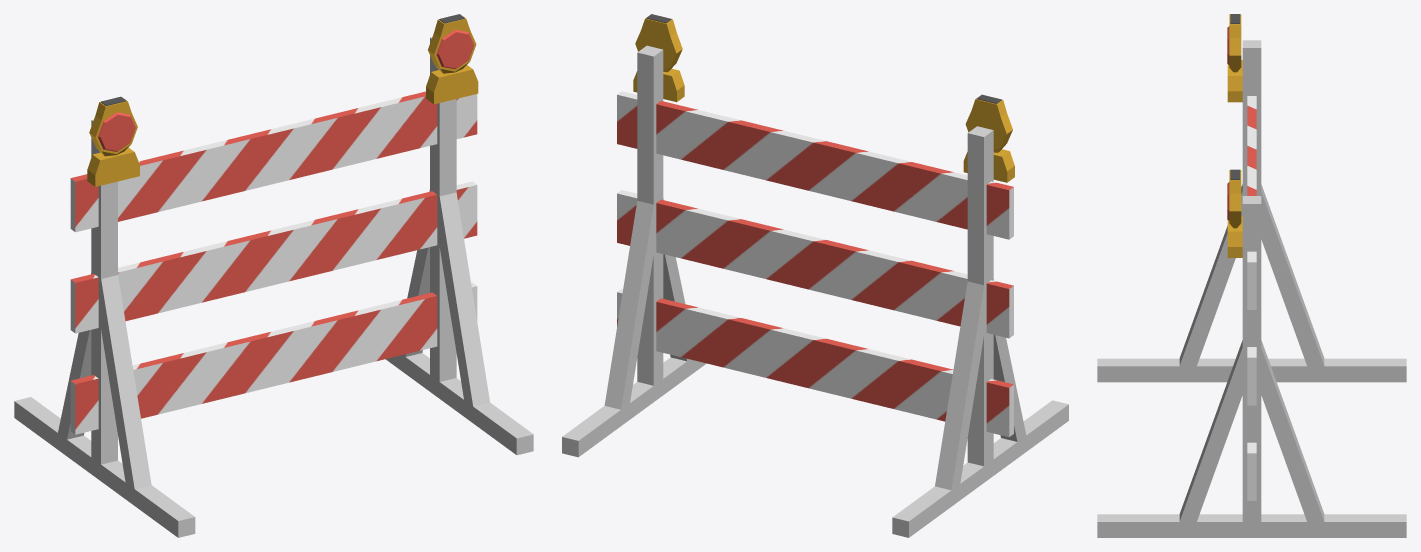
File: TrafficBarricade.fbx
3 renders of one model, left to right at view 1: azimuth 30°, elevation 25°; view 2: azimuth 150°, elevation 25°; view 3: azimuth 270°, elevation 25°, orthographic. The views are drawn at different scales.
Parts seen in each view (by area): view 1: TrafficBarricade_Panel, TrafficBarricade_Panel_1, TrafficBarricade_Panel_2, TrafficBarricade_Stand_1, TrafficBarricade_Stand, TrafficBarricade_Light_1, TrafficBarricade_Light; view 2: TrafficBarricade_Panel_1, TrafficBarricade_Panel, TrafficBarricade_Panel_2, TrafficBarricade_Stand_1, TrafficBarricade_Stand, TrafficBarricade_Light_1, TrafficBarricade_Light; view 3: TrafficBarricade_Stand, TrafficBarricade_Stand_1, TrafficBarricade_Panel_1, TrafficBarricade_Light_1, TrafficBarricade_Light, TrafficBarricade_Panel, TrafficBarricade_Panel_2.
Boxes of the visible parts, box(x1,y1,x2,y2) form: TrafficBarricade_Panel: box(70, 181, 477, 333); TrafficBarricade_Panel_1: box(70, 91, 477, 232); TrafficBarricade_Panel_2: box(70, 282, 477, 434); TrafficBarricade_Stand_1: box(14, 119, 195, 537); TrafficBarricade_Stand: box(385, 37, 533, 455); TrafficBarricade_Light_1: box(87, 96, 139, 186); TrafficBarricade_Light: box(426, 14, 478, 104); TrafficBarricade_Panel_1: box(617, 91, 1013, 239); TrafficBarricade_Panel: box(617, 190, 1013, 338); TrafficBarricade_Panel_2: box(617, 289, 1013, 436); TrafficBarricade_Stand_1: box(892, 126, 1068, 537); TrafficBarricade_Stand: box(562, 45, 706, 457); TrafficBarricade_Light_1: box(963, 94, 1014, 182); TrafficBarricade_Light: box(633, 14, 684, 102); TrafficBarricade_Stand: box(1097, 196, 1406, 537); TrafficBarricade_Stand_1: box(1097, 40, 1406, 382); TrafficBarricade_Panel_1: box(1247, 96, 1256, 309); TrafficBarricade_Light_1: box(1227, 14, 1242, 102); TrafficBarricade_Light: box(1227, 169, 1242, 257); TrafficBarricade_Panel: box(1247, 347, 1256, 405); TrafficBarricade_Panel_2: box(1247, 442, 1256, 500).
Bounding box in the file's own units: 1.81 × 1.64 × 1.28.
